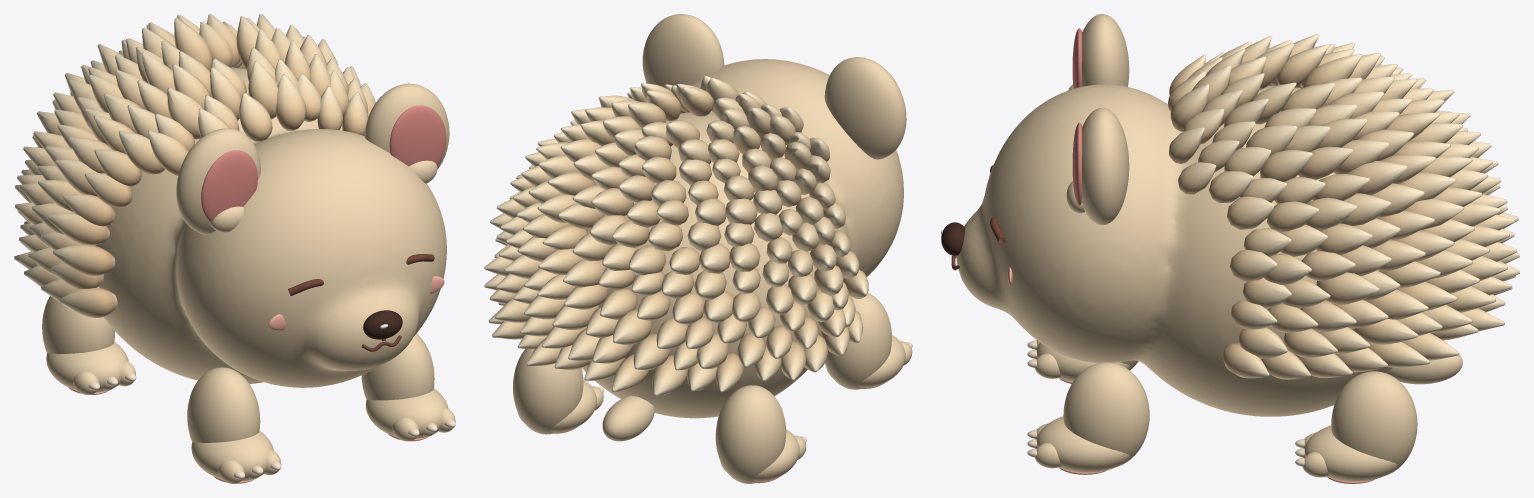
Rendered from hedgehog-stage-01.glb.
3 views of the same model, side by side, from view 1: azimuth 30°, elevation 25°; view 2: azimuth 150°, elevation 25°; view 3: azimuth 270°, elevation 25° (orthographic). The views are drawn at different scales.
Visible parts, largest first — view 1: S01 • seamless sculpted body and face, S01 • 196 individually formed rounded quills, S01 • L front leg, S01 • L ear • outer rim, S01 • R front leg, S01 • L rear leg, S01 • L ear • recessed inner bowl, S01 • R ear • recessed inner bowl, S01 • R ear • outer rim, S01 • L front paw, S01 • L rear paw, S01 • R front paw (+2 smaller); view 2: S01 • 196 individually formed rounded quills, S01 • seamless sculpted body and face, S01 • L ear • outer rim, S01 • L rear leg, S01 • R ear • outer rim, S01 • R rear leg, S01 • L front leg, S01 • small tail, S01 • L rear paw, S01 • L front paw, S01 • R rear paw; view 3: S01 • 196 individually formed rounded quills, S01 • seamless sculpted body and face, S01 • R rear leg, S01 • R front leg, S01 • R ear • outer rim, S01 • L ear • outer rim, S01 • R rear paw, S01 • R front paw, S01 • small tail, S01 • L front paw, S01 • R ear • recessed inner bowl, S01 • heartlike button nose.
Part boxes in pixels (bbox=[...]): S01 • seamless sculpted body and face: bbox=[95, 68, 446, 387]; S01 • 196 individually formed rounded quills: bbox=[14, 14, 375, 317]; S01 • L front leg: bbox=[187, 367, 260, 442]; S01 • L ear • outer rim: bbox=[176, 128, 260, 234]; S01 • R front leg: bbox=[361, 333, 434, 400]; S01 • L rear leg: bbox=[42, 296, 114, 353]; S01 • L ear • recessed inner bowl: bbox=[201, 150, 257, 221]; S01 • R ear • recessed inner bowl: bbox=[389, 105, 446, 166]; S01 • R ear • outer rim: bbox=[364, 83, 449, 169]; S01 • L front paw: bbox=[191, 430, 273, 481]; S01 • L rear paw: bbox=[46, 342, 128, 392]; S01 • R front paw: bbox=[365, 388, 447, 438]; S01 • 196 individually formed rounded quills: bbox=[484, 76, 868, 396]; S01 • seamless sculpted body and face: bbox=[582, 59, 903, 418]; S01 • L ear • outer rim: bbox=[824, 57, 906, 159]; S01 • L rear leg: bbox=[715, 385, 786, 483]; S01 • R ear • outer rim: bbox=[642, 14, 724, 87]; S01 • R rear leg: bbox=[513, 349, 583, 434]; S01 • L front leg: bbox=[825, 293, 891, 389]; S01 • small tail: bbox=[602, 395, 654, 441]; S01 • L rear paw: bbox=[720, 429, 799, 482]; S01 • L front paw: bbox=[826, 335, 905, 388]; S01 • R rear paw: bbox=[517, 380, 596, 432]; S01 • 196 individually formed rounded quills: bbox=[1168, 34, 1519, 379]; S01 • seamless sculpted body and face: bbox=[956, 84, 1392, 416]; S01 • R rear leg: bbox=[1331, 371, 1417, 475]; S01 • R front leg: bbox=[1063, 362, 1149, 466]; S01 • R ear • outer rim: bbox=[1081, 107, 1129, 225]; S01 • L ear • outer rim: bbox=[1082, 14, 1129, 86]; S01 • R rear paw: bbox=[1304, 425, 1398, 481]; S01 • R front paw: bbox=[1037, 416, 1130, 472]; S01 • small tail: bbox=[1387, 354, 1462, 384]; S01 • L front paw: bbox=[1037, 342, 1130, 381]; S01 • R ear • recessed inner bowl: bbox=[1072, 122, 1082, 205]; S01 • heartlike button nose: bbox=[941, 222, 964, 255].
Bounding box in the file's own units: 1.05 × 0.9819 × 1.42.
